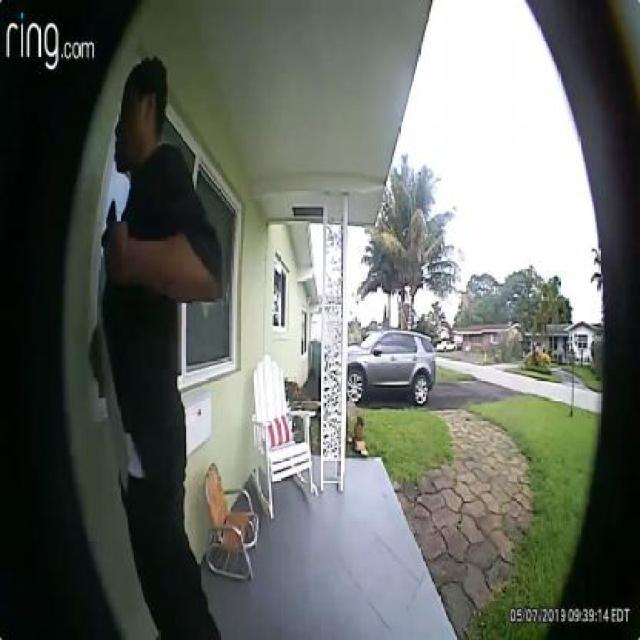person: (88, 61, 222, 640)
